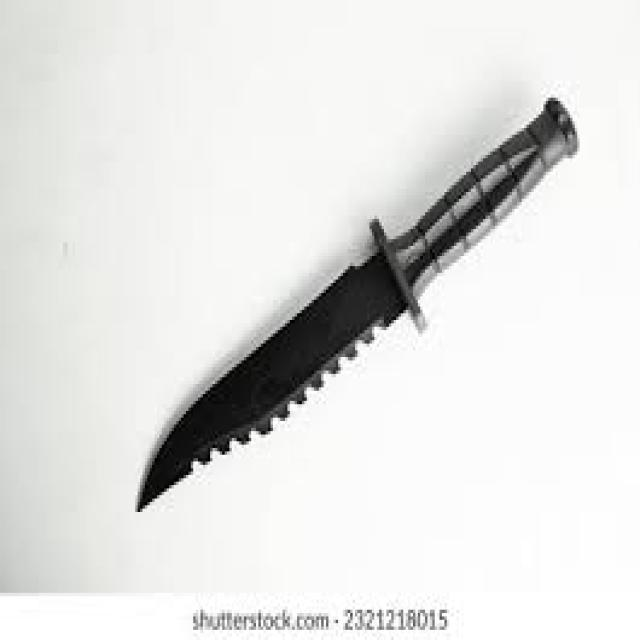Knife: (133, 94, 577, 512)
